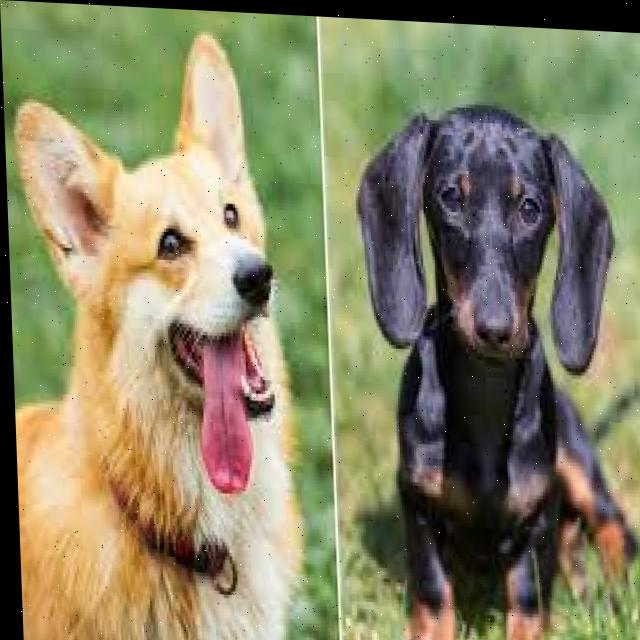CORGI: (0, 7, 306, 640)
